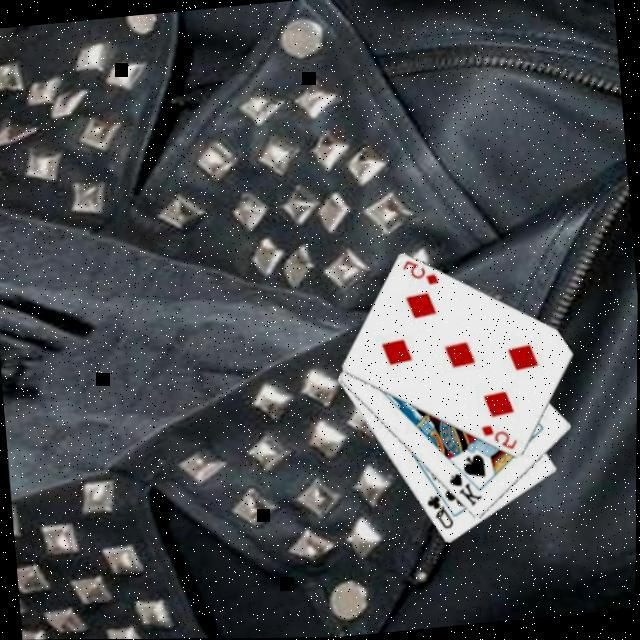5D: (476, 418, 520, 453), (398, 254, 442, 288)
KS: (445, 467, 484, 510)
QC: (422, 490, 457, 532)
